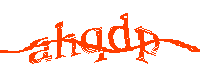a: (29, 37, 51, 65)
d: (108, 11, 133, 55)
h: (55, 20, 79, 61)
p: (135, 24, 160, 65)
q: (80, 26, 108, 65)
